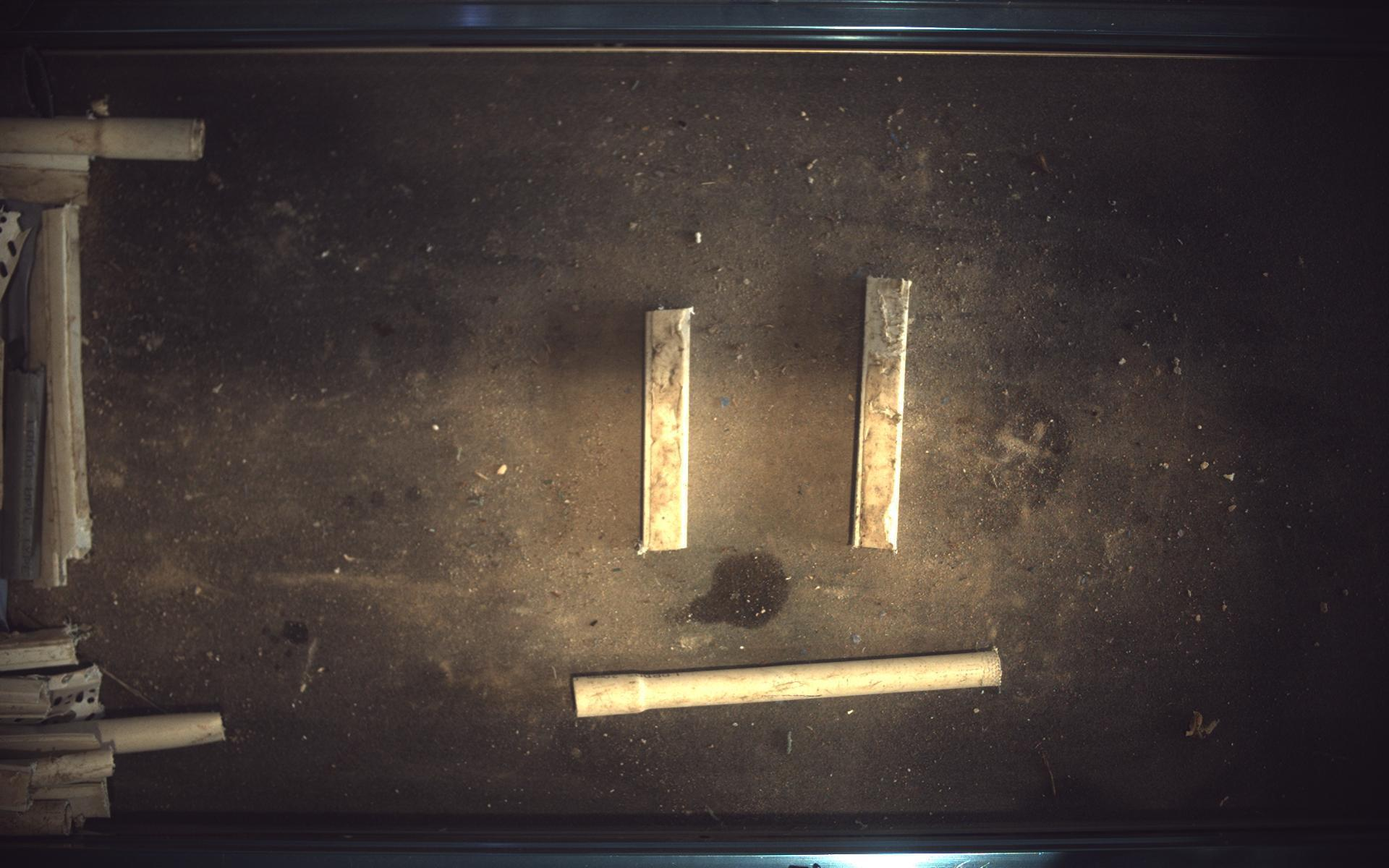pipes: (573, 650, 1004, 719)
plastic: (854, 276, 914, 551), (643, 307, 694, 551)
